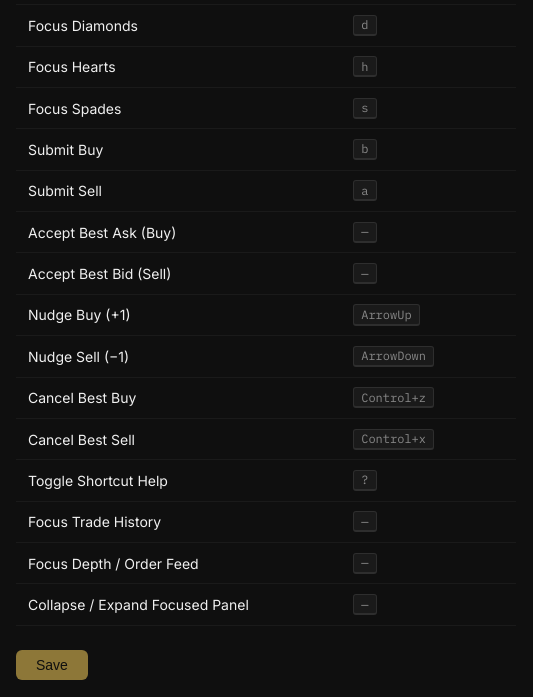
KeybindSettings › shows "Saved" confirmation after successful update
The width and height of the screenshot is (533, 697).
(page scrolled)
Click the button "Save": (52, 665) 16,650 -> 88,680
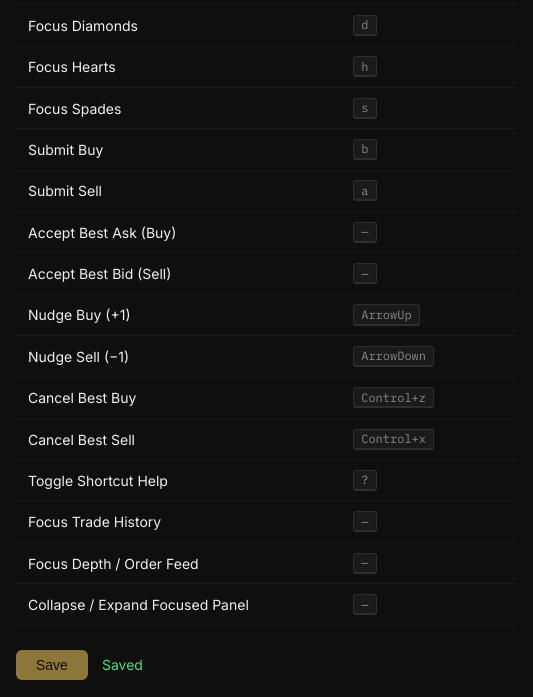
Check: the text "Saved" is shown, box 102,656 -> 143,674
